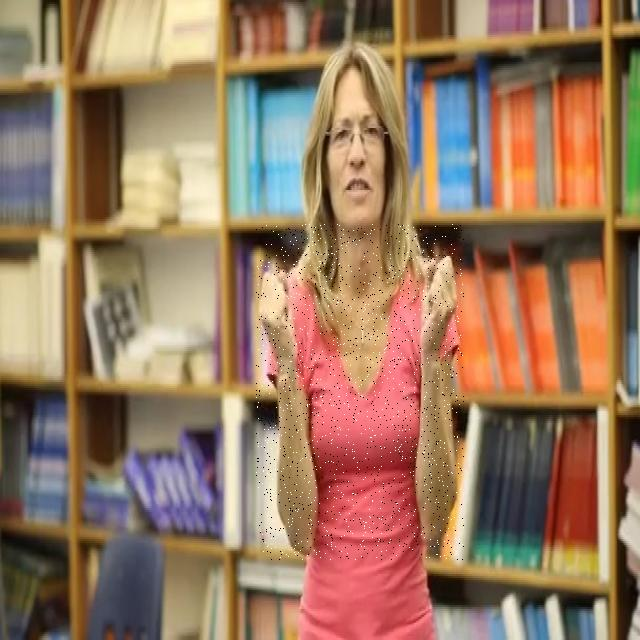cold: (256, 224, 464, 560)
